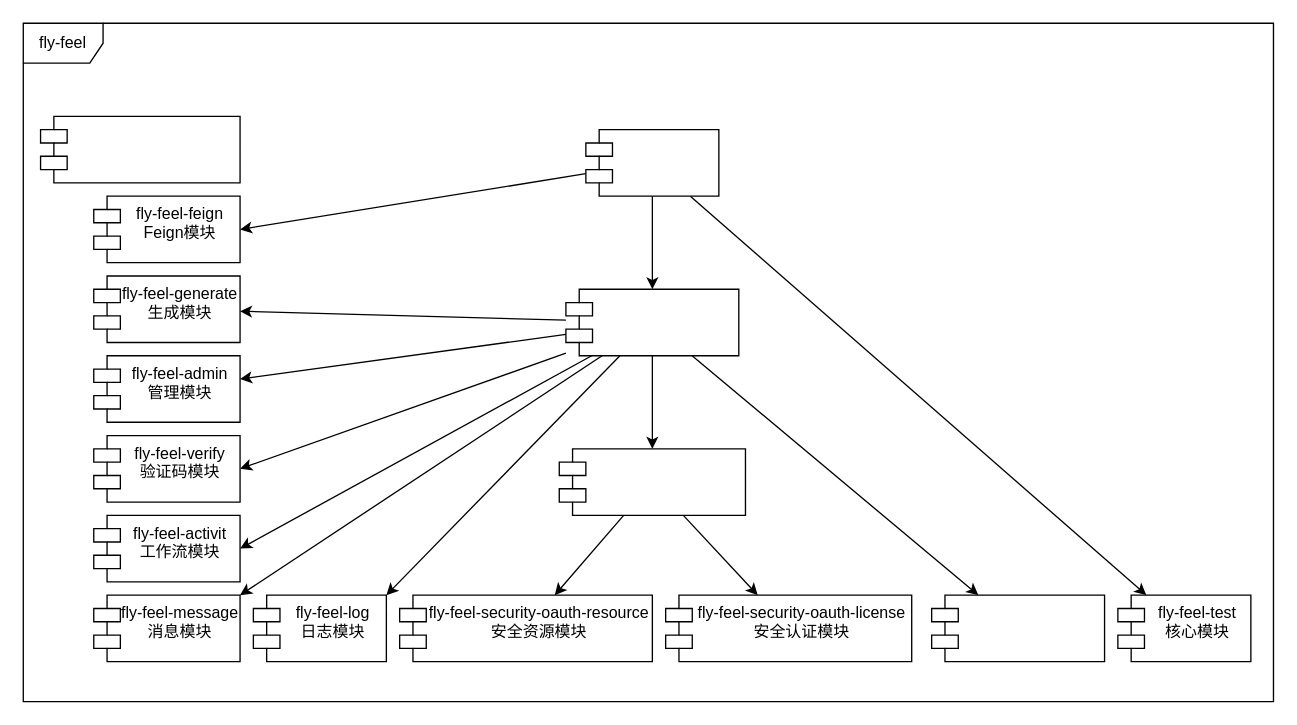
This 1297x725 diagram has some shape labels left out. Each missing label, with the centre of its shape:
"fly-feel-core 核心模块" goes at (652,162).
"fly-feel-define 业务接口定义模块" goes at (652,322).
"fly-feel-define-impl 业务实现模块" goes at (1017,628).
"fly-feel-dependencies 版本管理模块" goes at (139,149).
"fly-feel-security-core 安全核心模块" goes at (651,481).
